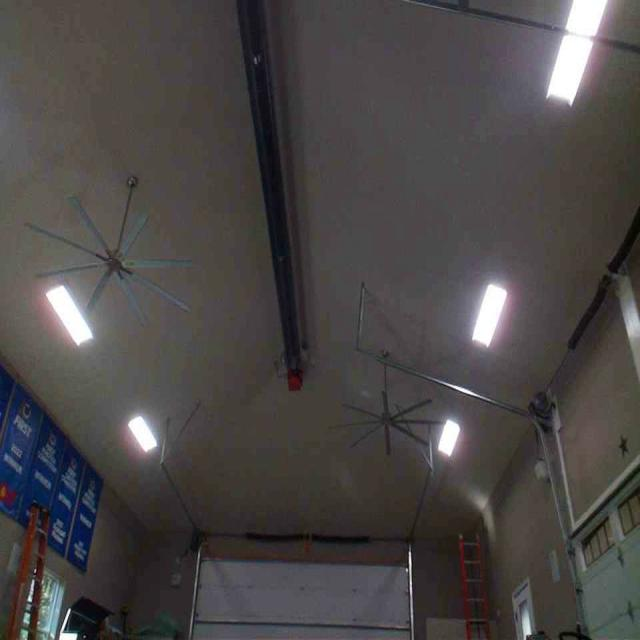star_black: (617, 434, 629, 458)
